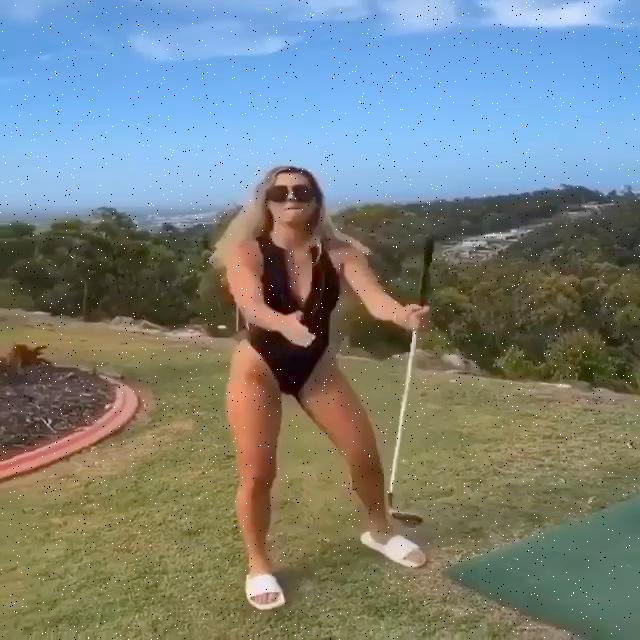golf club-handle: (387, 235, 436, 524)
golf club-head: (386, 512, 422, 524)
